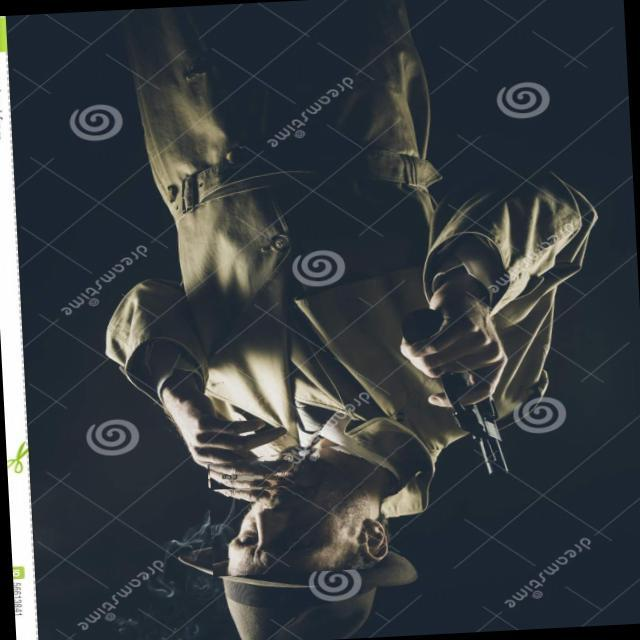cigarette: (208, 454, 294, 490)
